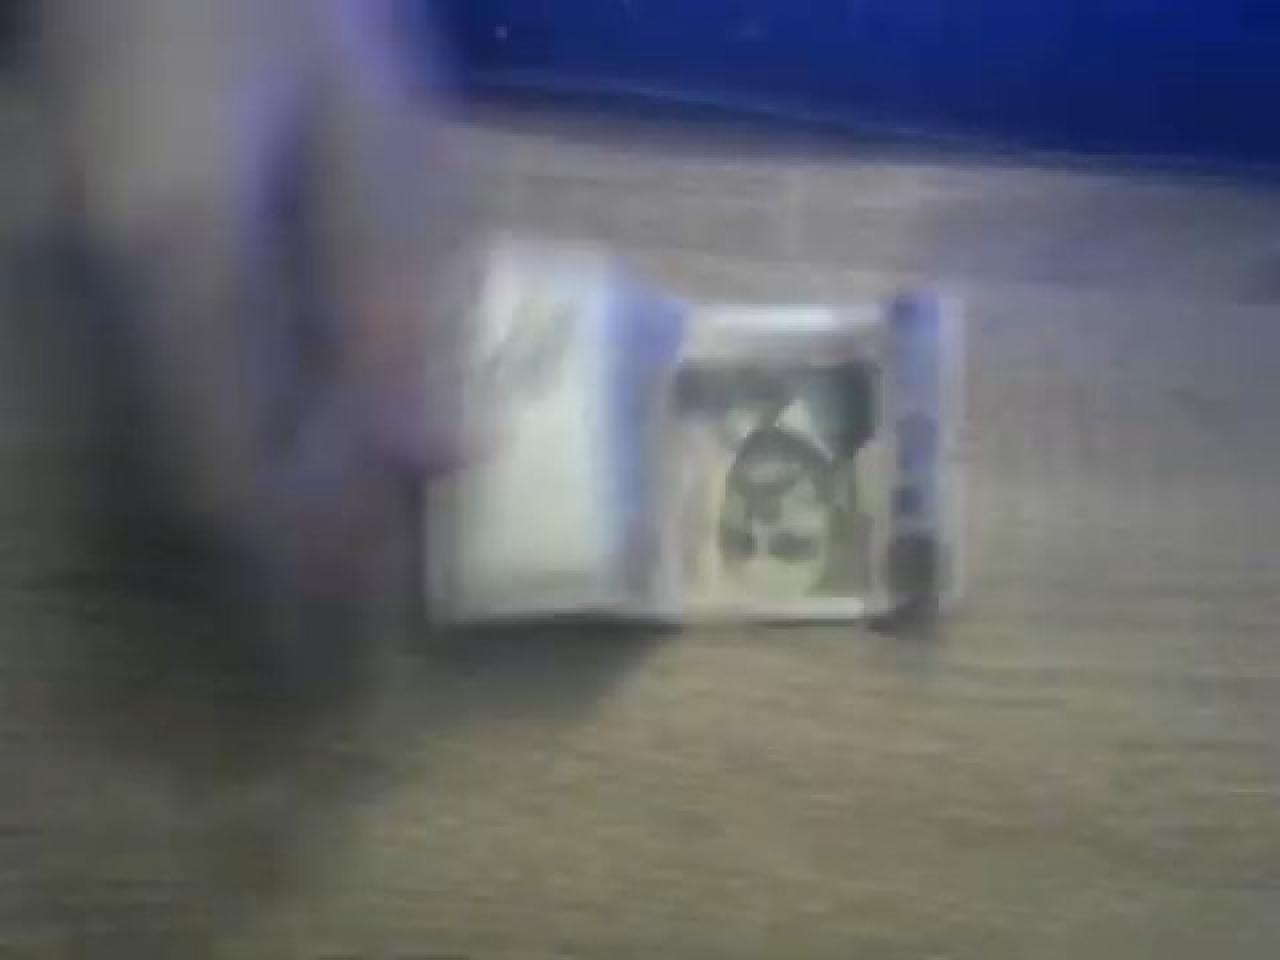10leva: (640, 302, 957, 626)
